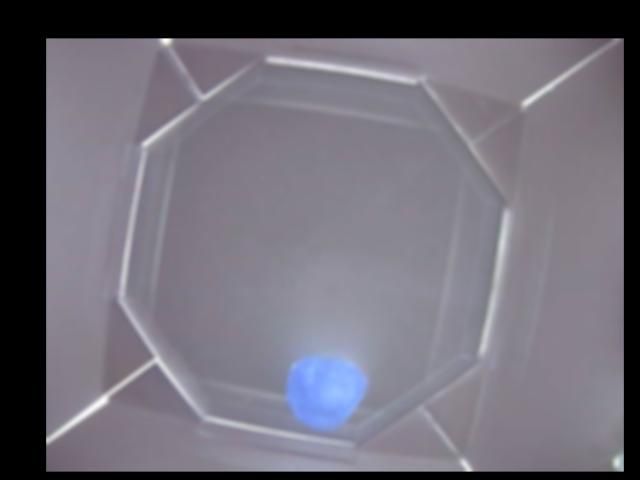Potato: (281, 354, 364, 430)
